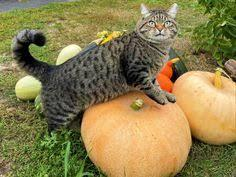animals: (11, 2, 188, 116)
